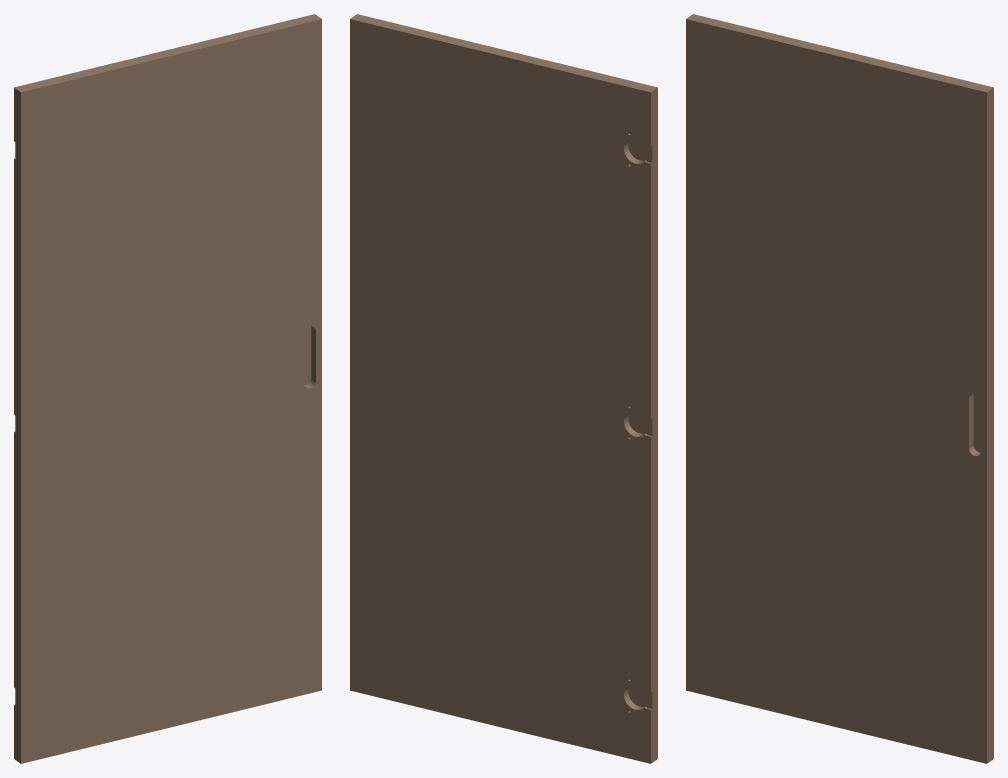
File: left-door-machined.glb
The picture shows the model from 3 angles, left to right: view 1: azimuth 30°, elevation 25°; view 2: azimuth 150°, elevation 25°; view 3: azimuth 330°, elevation 25°; orthographic projection.
Parts seen in each view (by area): view 1: Left-door-face-18; view 2: Left-door-face-18; view 3: Left-door-face-18.
Part boxes in pixels (x1,y1,x2,y2): Left-door-face-18: (14,14,321,763); Left-door-face-18: (350,14,657,763); Left-door-face-18: (686,14,993,763).
Size of the model in its own units: 0.452 by 0.964 by 0.018.
